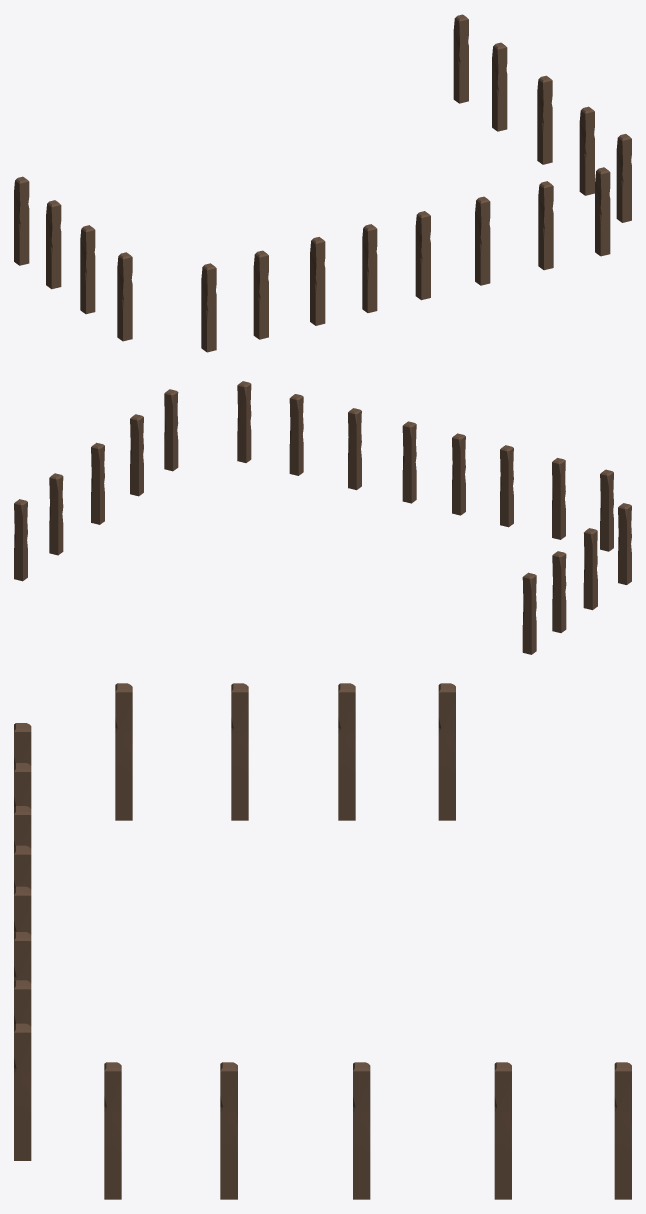
Rendered from geduanshu.fbx.
3 views of the same model, one above another, from view 1: azimuth 30°, elevation 25°; view 2: azimuth 150°, elevation 25°; view 3: azimuth 270°, elevation 25° (orthographic). The views are drawn at different scales.
Parts seen in each view (by area): view 1: geduanshu; view 2: geduanshu; view 3: geduanshu.
Boxes of the visible parts, <box> form: geduanshu: <box>14,14,631,352</box>; geduanshu: <box>14,381,631,654</box>; geduanshu: <box>14,683,631,1199</box>.
Size of the model in its own units: 882 by 139 by 597.
